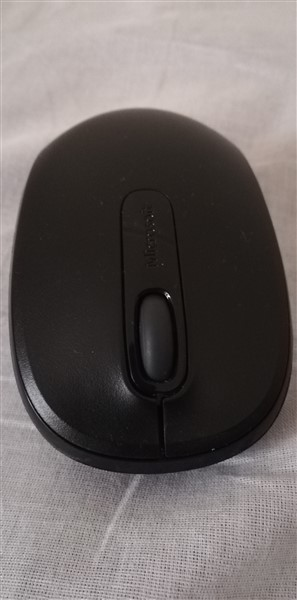mouse: (5, 102, 297, 482)
